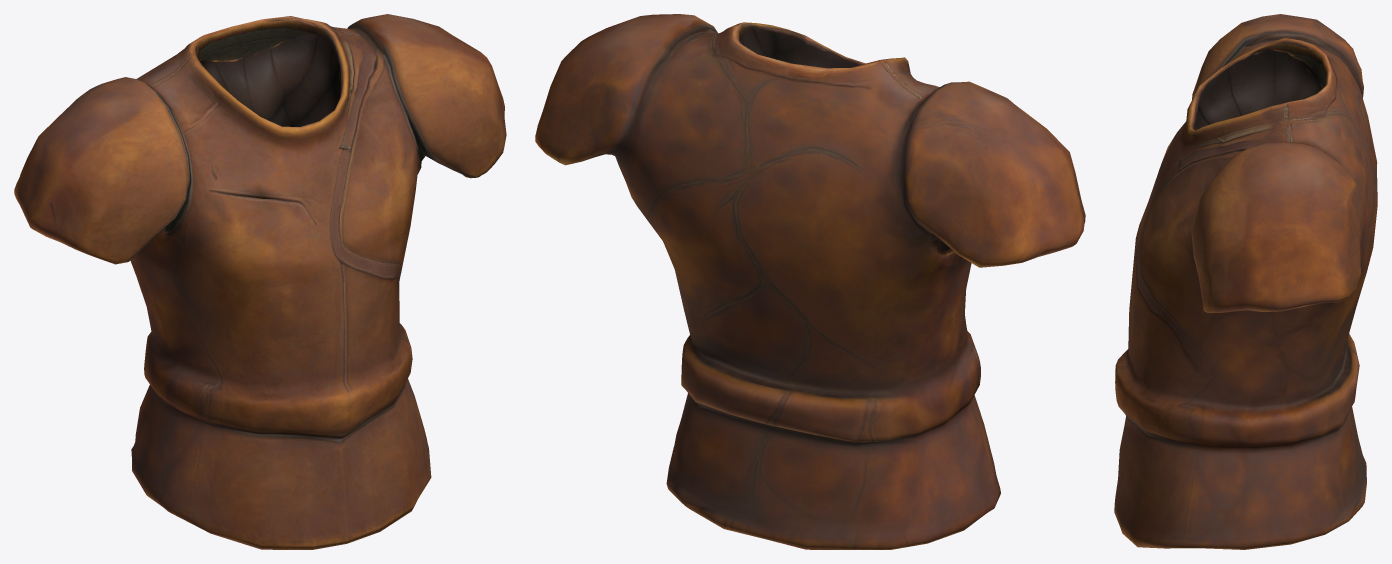
Rendered from body-leather-01-hard-leather_backup.glb.
3 renders of one model, left to right at view 1: azimuth 30°, elevation 25°; view 2: azimuth 150°, elevation 25°; view 3: azimuth 270°, elevation 25°, orthographic. The views are drawn at different scales.
Bounding box in the file's own units: 1.98 × 1.84 × 0.9614.
1 material, 1 textured.
